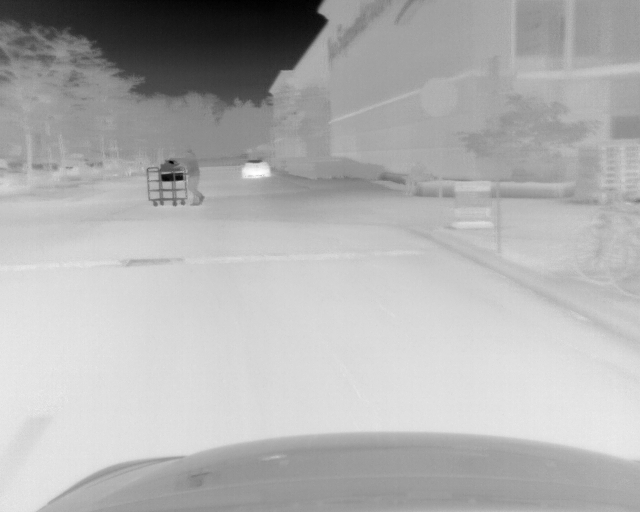bike: (569, 194, 640, 287), (610, 223, 640, 301)
car: (237, 155, 272, 181)
people: (181, 148, 206, 206)
